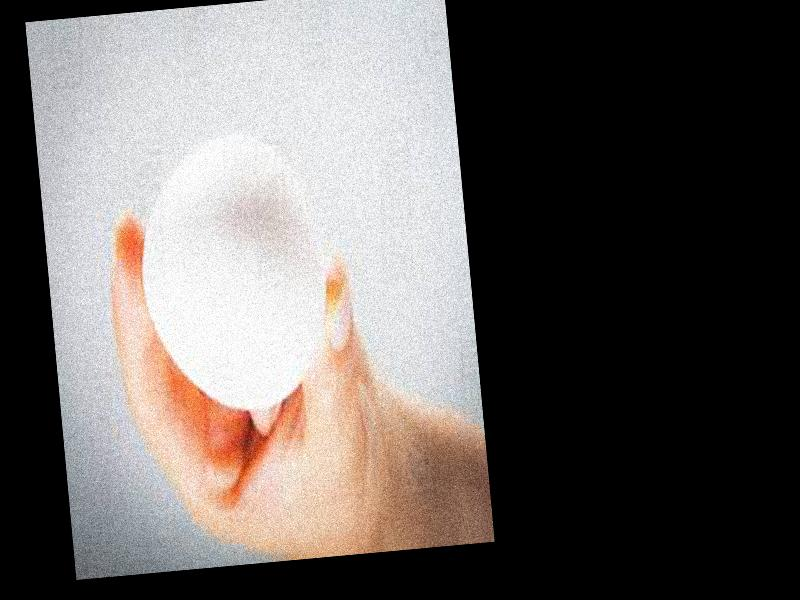Eggs: (129, 131, 335, 407)
